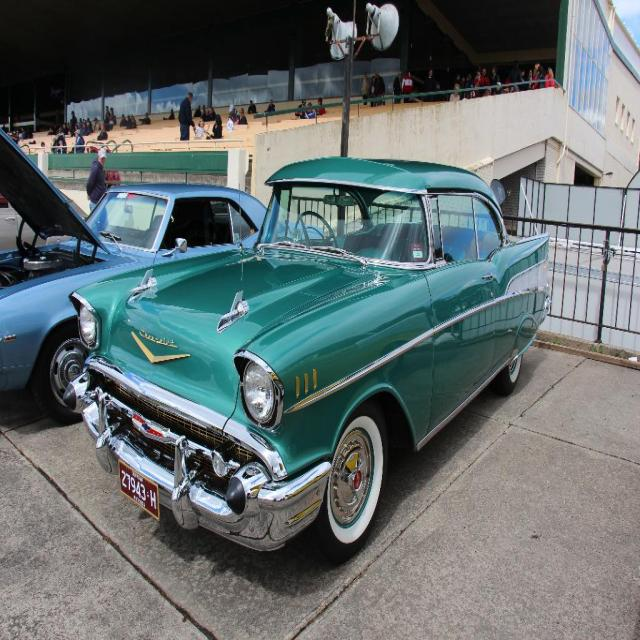car: (59, 152, 550, 558)
